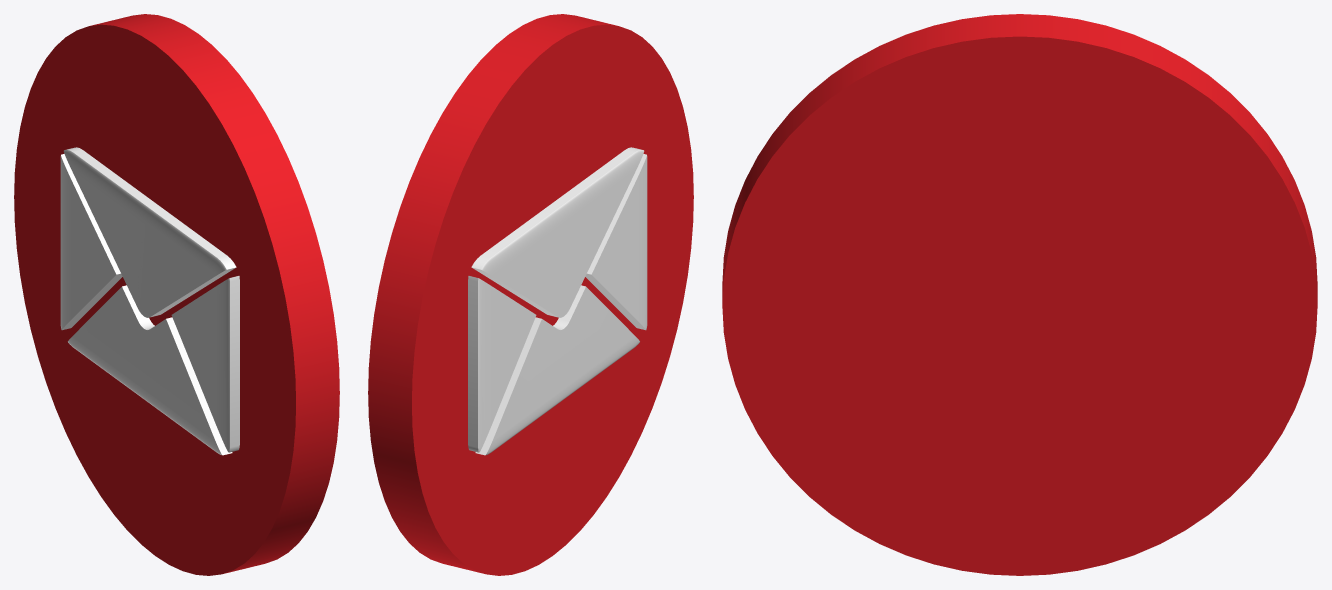
File: mail.glb
3 views of the same model, side by side, from view 1: azimuth 30°, elevation 25°; view 2: azimuth 150°, elevation 25°; view 3: azimuth 270°, elevation 25° (orthographic). The views are drawn at different scales.
Visible parts, largest first — view 1: mail; view 2: mail; view 3: mail.
Boxes of the visible parts, x1,y1,x2,y2 form: mail: (14,14,339,575); mail: (368,14,693,575); mail: (722,14,1317,575).
Bounding box in the file's own units: 0.2177 × 1.94 × 1.94.
Materials: 2 (2 with a texture image).
